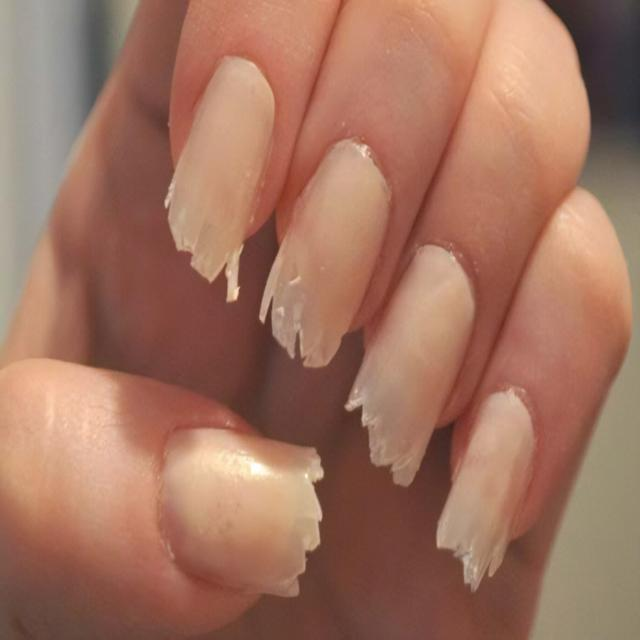Fingernail: (348, 245, 474, 479), (261, 140, 390, 368), (159, 429, 322, 595), (167, 57, 275, 280), (437, 389, 536, 590)
